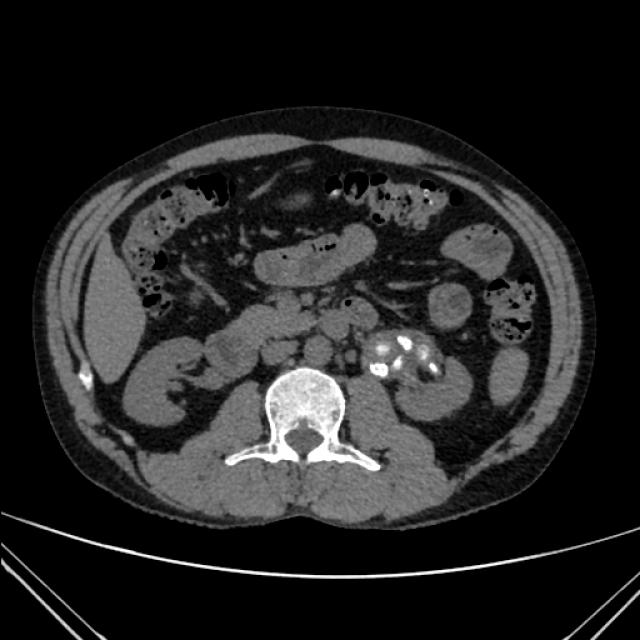kidneystone: (370, 364, 386, 377), (398, 336, 411, 351), (376, 344, 390, 356), (392, 355, 402, 371), (420, 350, 429, 361)
